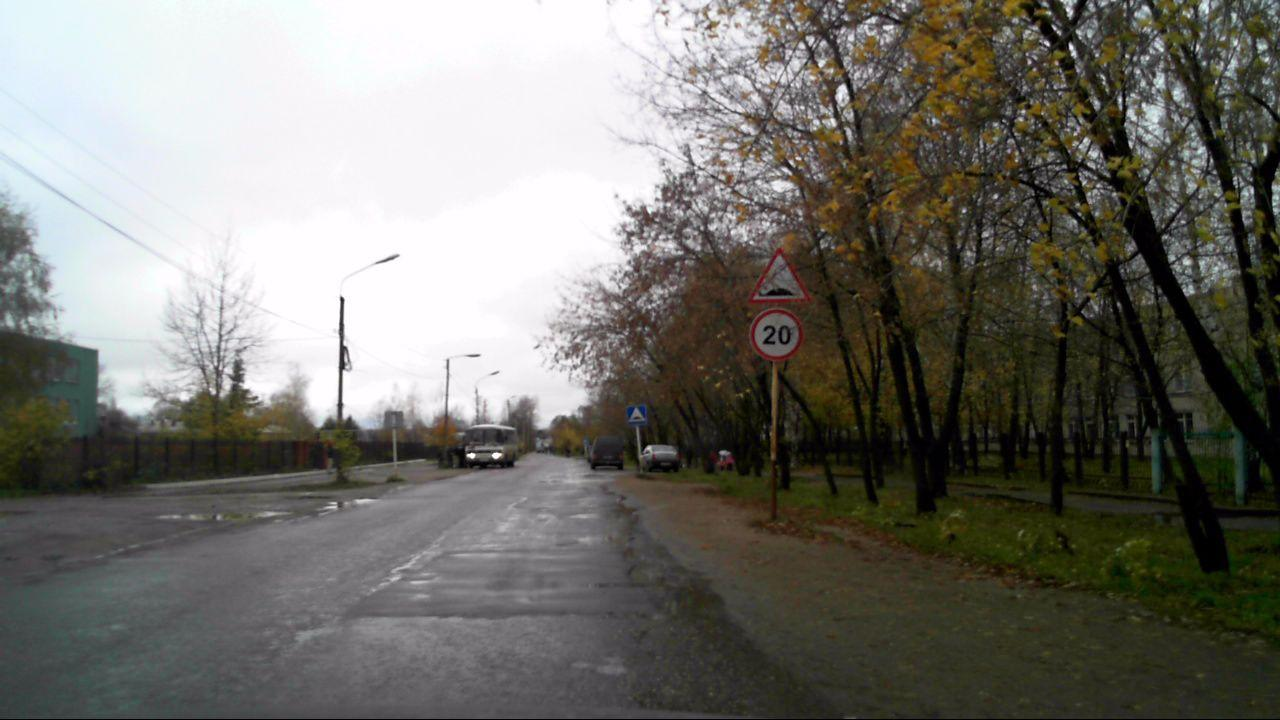1_17: (747, 246, 810, 305)
3_24: (750, 311, 802, 363)
5_20: (626, 405, 648, 425)
